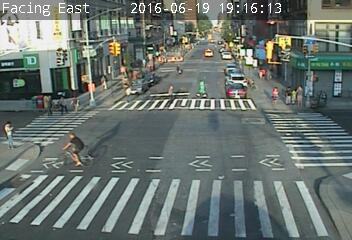neg: (305, 37, 324, 63), (266, 19, 285, 44), (65, 23, 83, 46), (50, 44, 67, 67), (133, 24, 150, 46), (228, 32, 243, 51), (152, 51, 165, 70), (97, 38, 110, 55), (178, 25, 191, 42), (249, 44, 261, 58)
pos: (1, 122, 21, 150), (38, 93, 56, 117), (293, 84, 311, 107), (57, 94, 73, 115), (165, 83, 180, 102), (196, 78, 210, 98), (70, 93, 84, 112), (267, 83, 281, 102), (280, 85, 293, 102), (98, 73, 111, 90), (174, 62, 183, 74)
